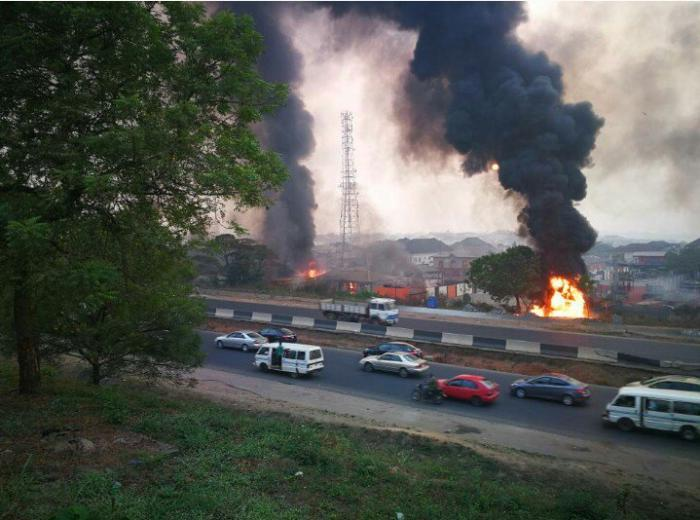Fire: (519, 269, 600, 331), (309, 260, 324, 278)
